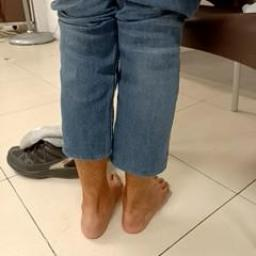Back View -Both Feet-: (60, 152, 182, 246)
